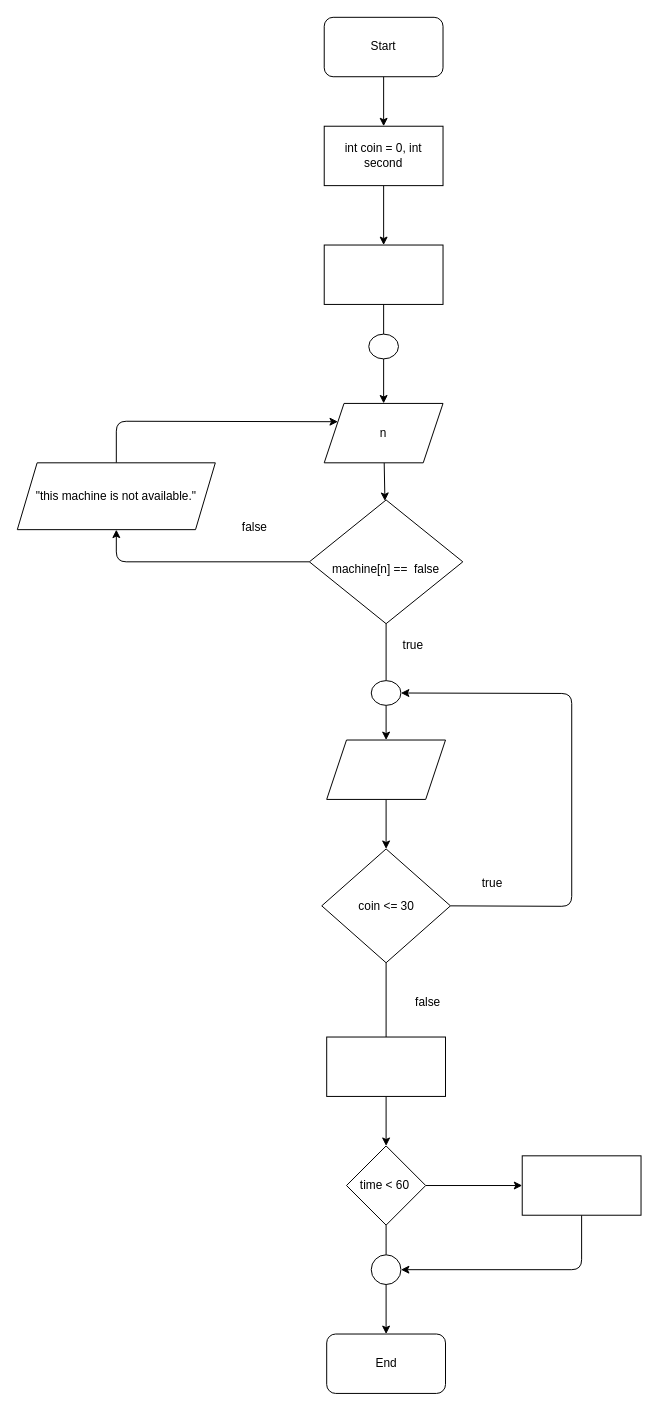
Some shapes in this 658 by 1411 pixel diagram are drawn without their labels. The box of each missing label's shape, as (x1, y1, x2, y2) in pixels:
Boolean machine[*] = false: (323, 244, 443, 304)
coin: (326, 739, 446, 799)
machine[n] == true: (326, 1036, 446, 1096)
Notify users via LINE application: (521, 1155, 641, 1215)
